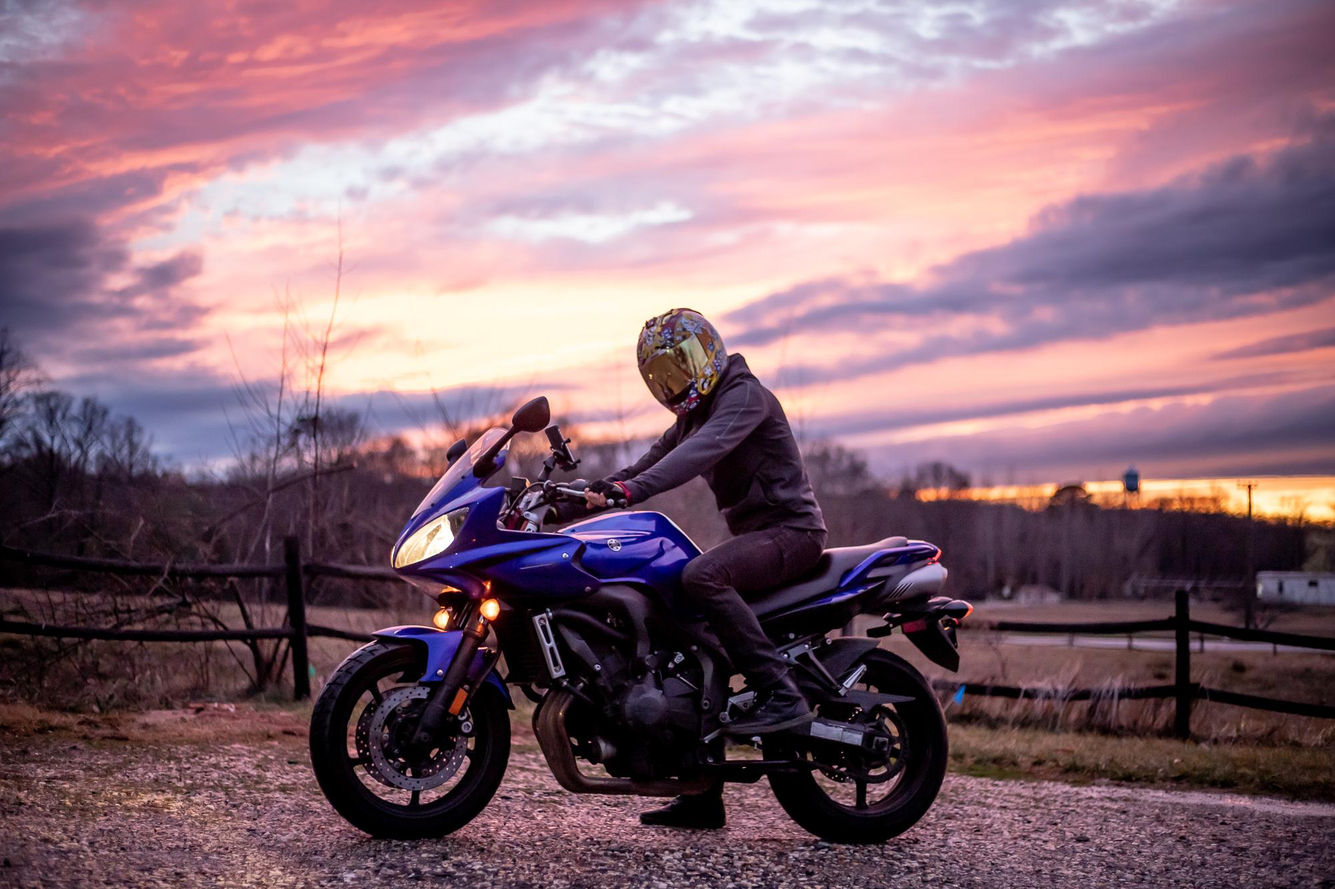Helmet: (637, 308, 729, 416)
